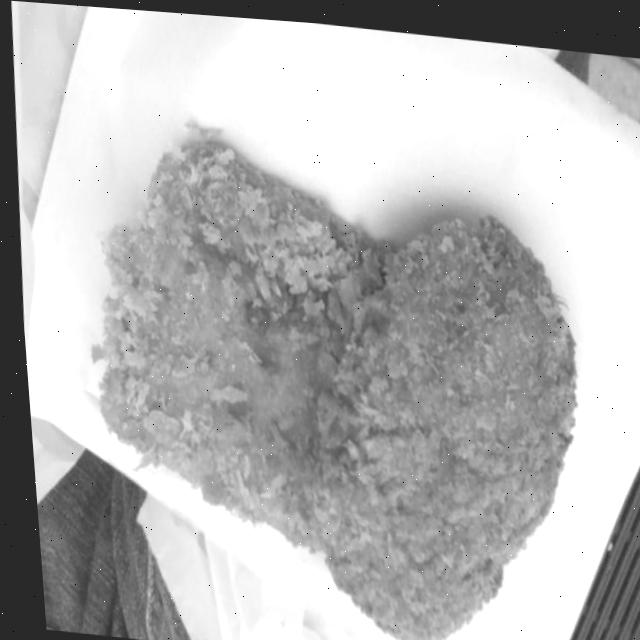炸货点心: (38, 94, 614, 640)
